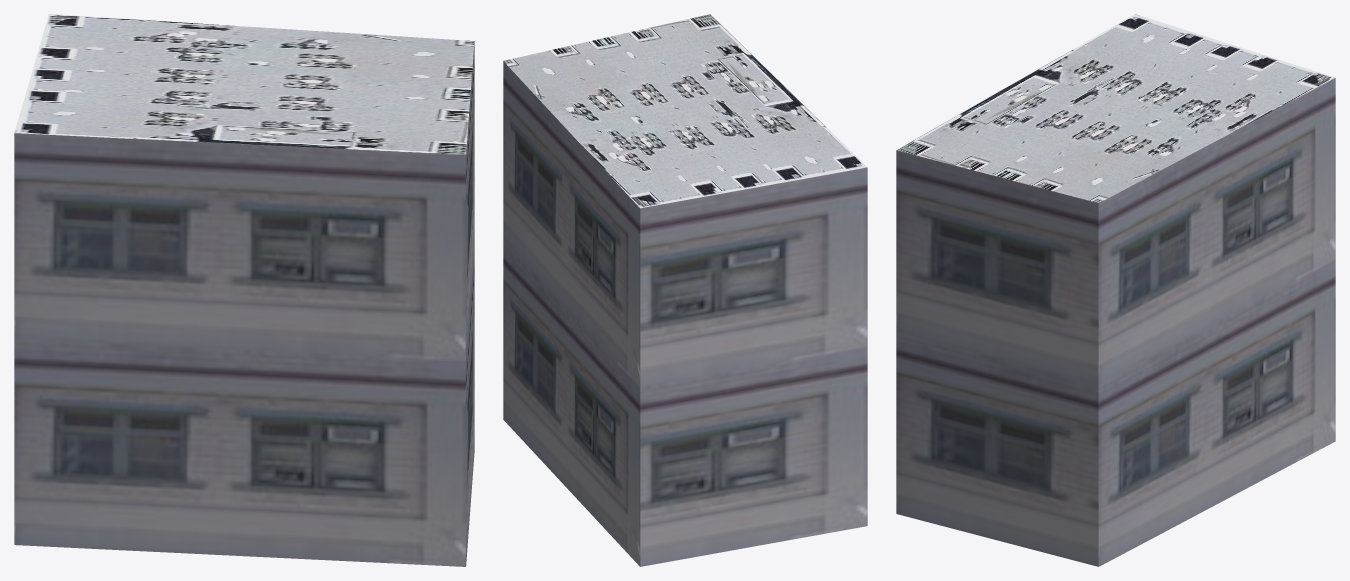
Rendered from ResTex__5108.fbx.
3 views of the same model, side by side, from view 1: azimuth 30°, elevation 25°; view 2: azimuth 150°, elevation 25°; view 3: azimuth 270°, elevation 25° (orthographic). The views are drawn at different scales.
Parts seen in each view (by area): view 1: CityEngineMaterial_1_m, CityEngineMaterial_4_m; view 2: CityEngineMaterial_1_m, CityEngineMaterial_4_m; view 3: CityEngineMaterial_1_m, CityEngineMaterial_4_m.
Part boxes in pixels (x1,y1,x2,y2): CityEngineMaterial_1_m: (14, 41, 474, 566); CityEngineMaterial_4_m: (14, 14, 474, 154); CityEngineMaterial_1_m: (503, 61, 867, 566); CityEngineMaterial_4_m: (503, 14, 867, 208); CityEngineMaterial_1_m: (896, 78, 1335, 566); CityEngineMaterial_4_m: (896, 14, 1334, 203).
Size of the model in its own units: 6.7 by 6 by 6.57.
Materials: 2 (2 with a texture image).
